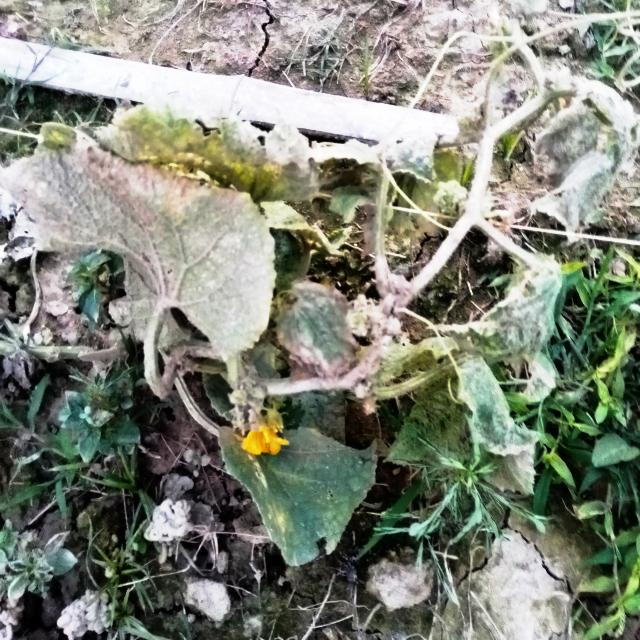Bacterial-Wilt: (426, 256, 571, 405), (525, 75, 640, 228)
